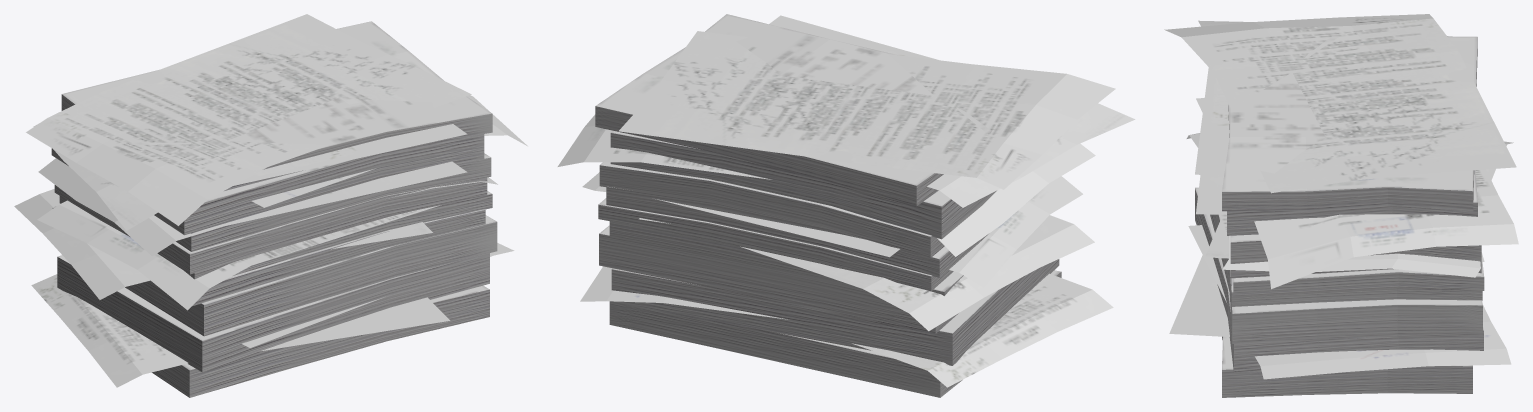
Rendered from office_paperstack_003_cube.fbx.
The picture shows the model from 3 angles, left to right: view 1: azimuth 30°, elevation 25°; view 2: azimuth 150°, elevation 25°; view 3: azimuth 270°, elevation 25°; orthographic projection. The views are drawn at different scales.
Parts seen in each view (by area): view 1: office_paperstack_003_cube; view 2: office_paperstack_003_cube; view 3: office_paperstack_003_cube.
Part boxes in pixels (x1=…): office_paperstack_003_cube: x1=14, y1=14, x2=527, y2=397; office_paperstack_003_cube: x1=557, y1=14, x2=1135, y2=397; office_paperstack_003_cube: x1=1164, y1=14, x2=1518, y2=397.
Size of the model in its own units: 2.34 by 1.07 by 1.61.
